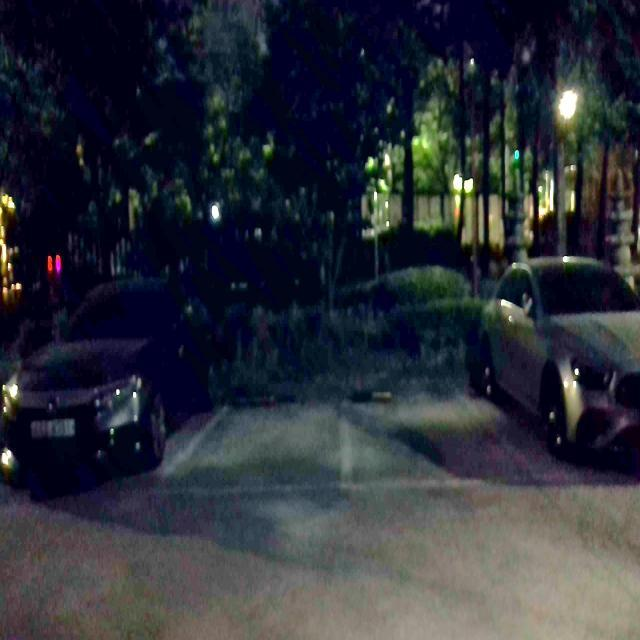empty: (340, 384, 552, 482), (168, 392, 348, 489)
occupied: (0, 267, 152, 469), (572, 266, 640, 476)
